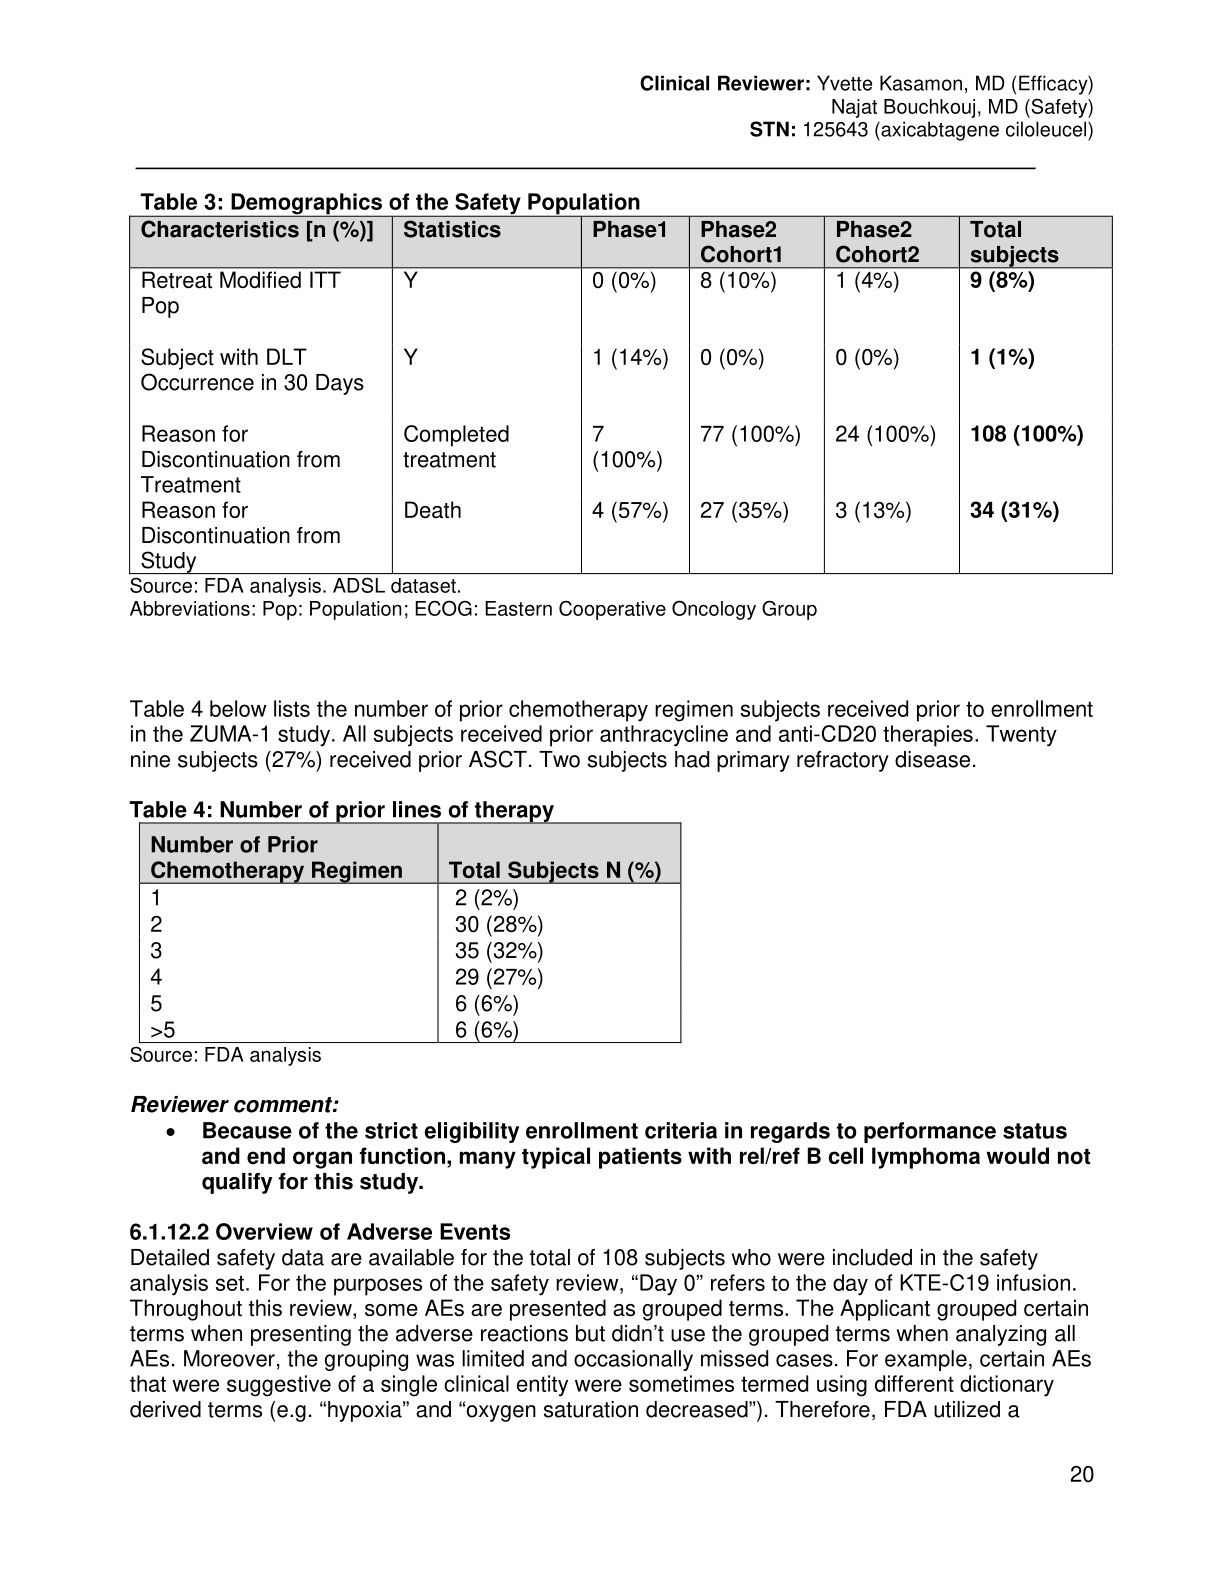partial_lined: (127, 213, 1115, 576), (138, 822, 681, 1044)
